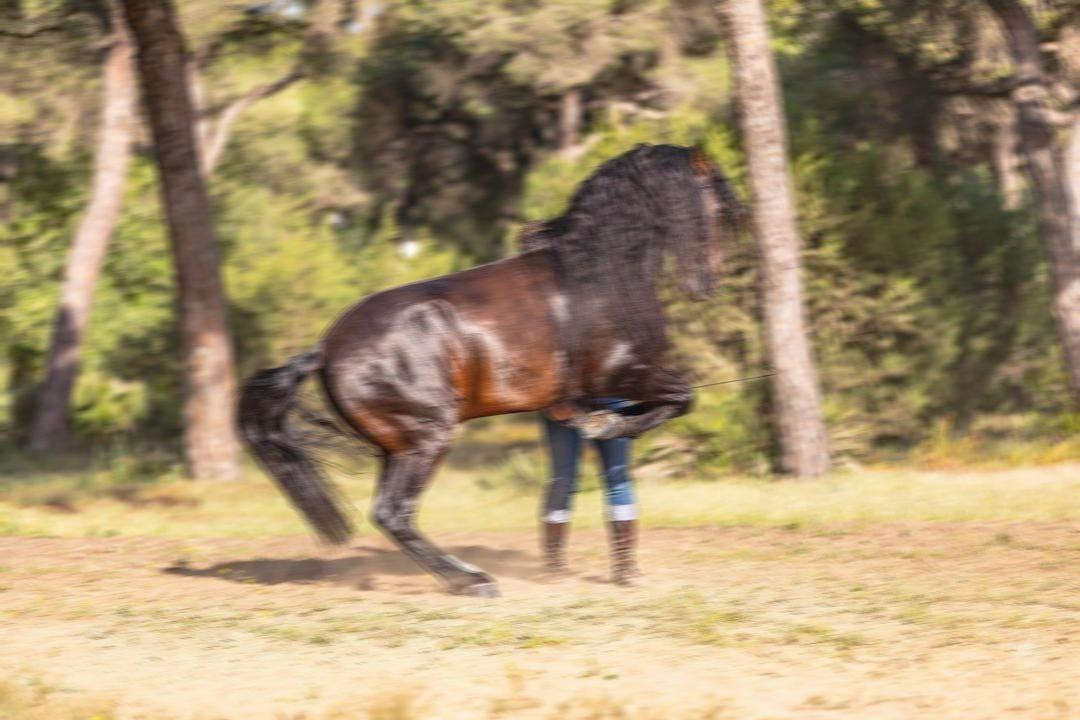horse: (222, 139, 780, 599)
